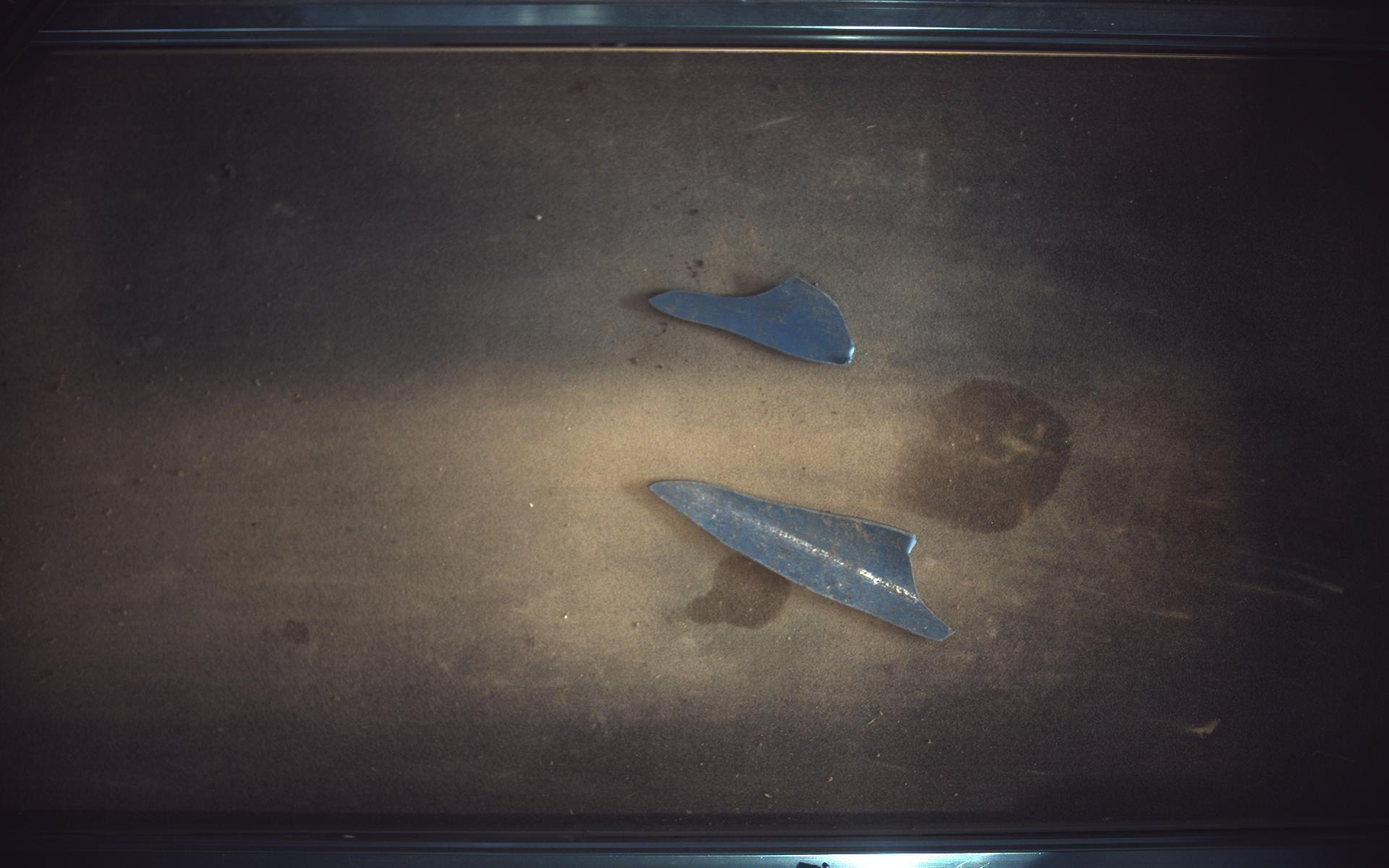plastic: (651, 481, 955, 642), (650, 276, 856, 365)
